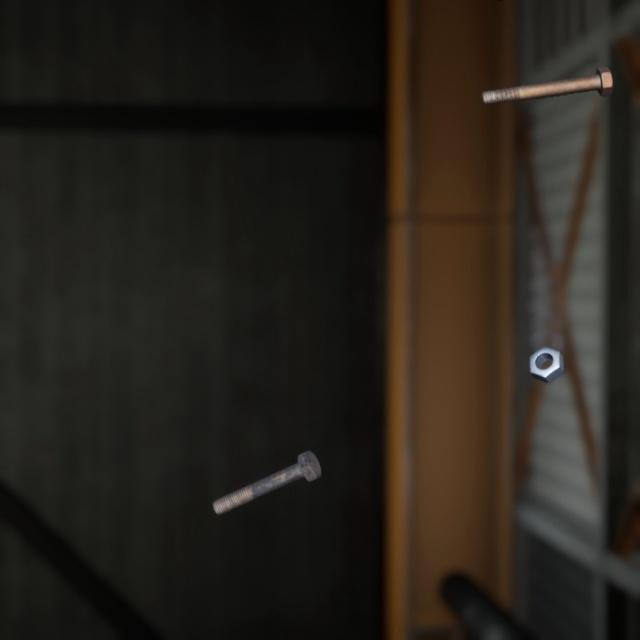bolt: (208, 424, 326, 497), (476, 51, 617, 98)
nut: (524, 323, 568, 368)
